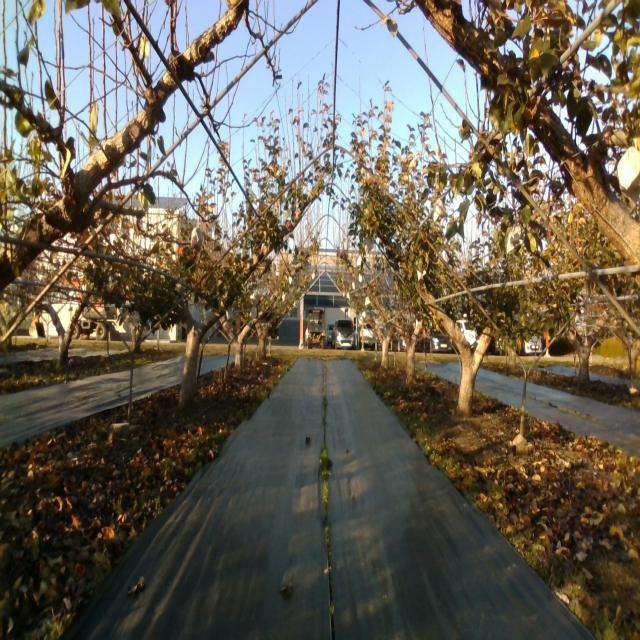pearbags: (617, 138, 640, 203), (506, 223, 525, 253), (432, 198, 449, 222), (190, 224, 203, 252)
